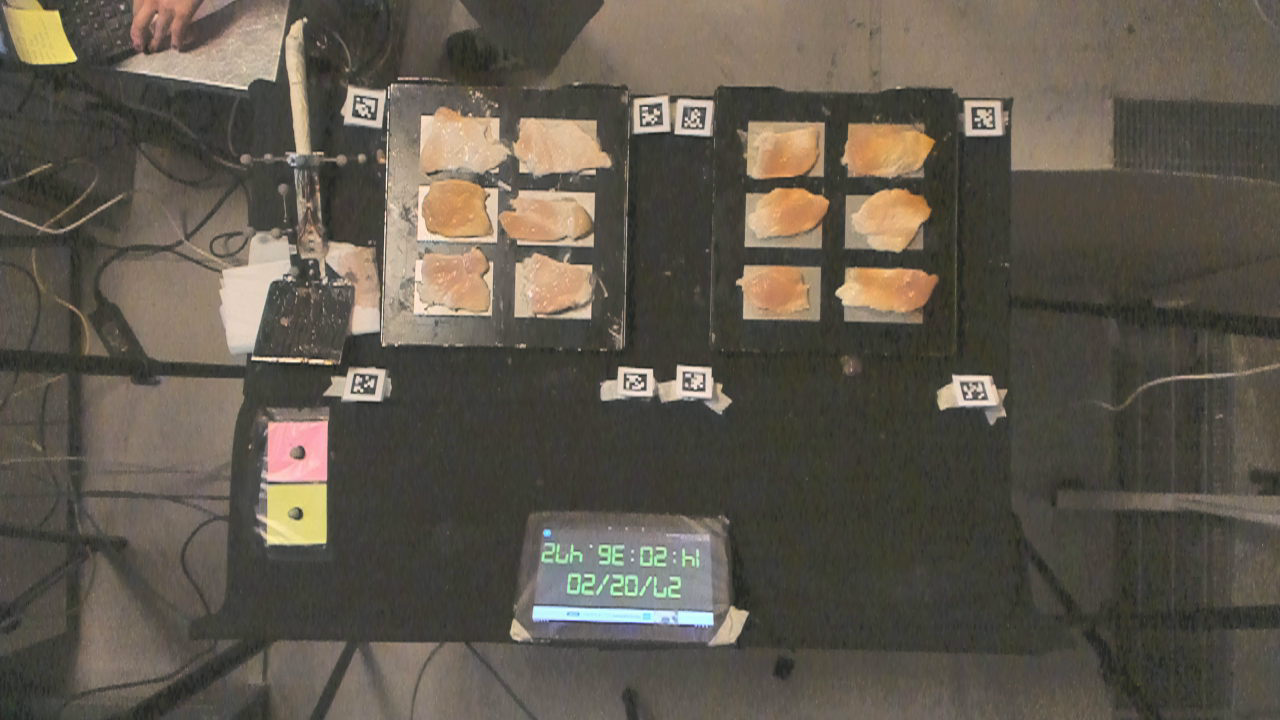chicken: (420, 102, 510, 171), (514, 113, 610, 176), (854, 185, 932, 255), (845, 118, 937, 176), (419, 248, 494, 315), (835, 267, 938, 313), (520, 256, 597, 315), (503, 198, 596, 244), (751, 185, 834, 236), (424, 177, 494, 236), (732, 265, 813, 315), (750, 128, 824, 181)
marker: (267, 420, 328, 481)
